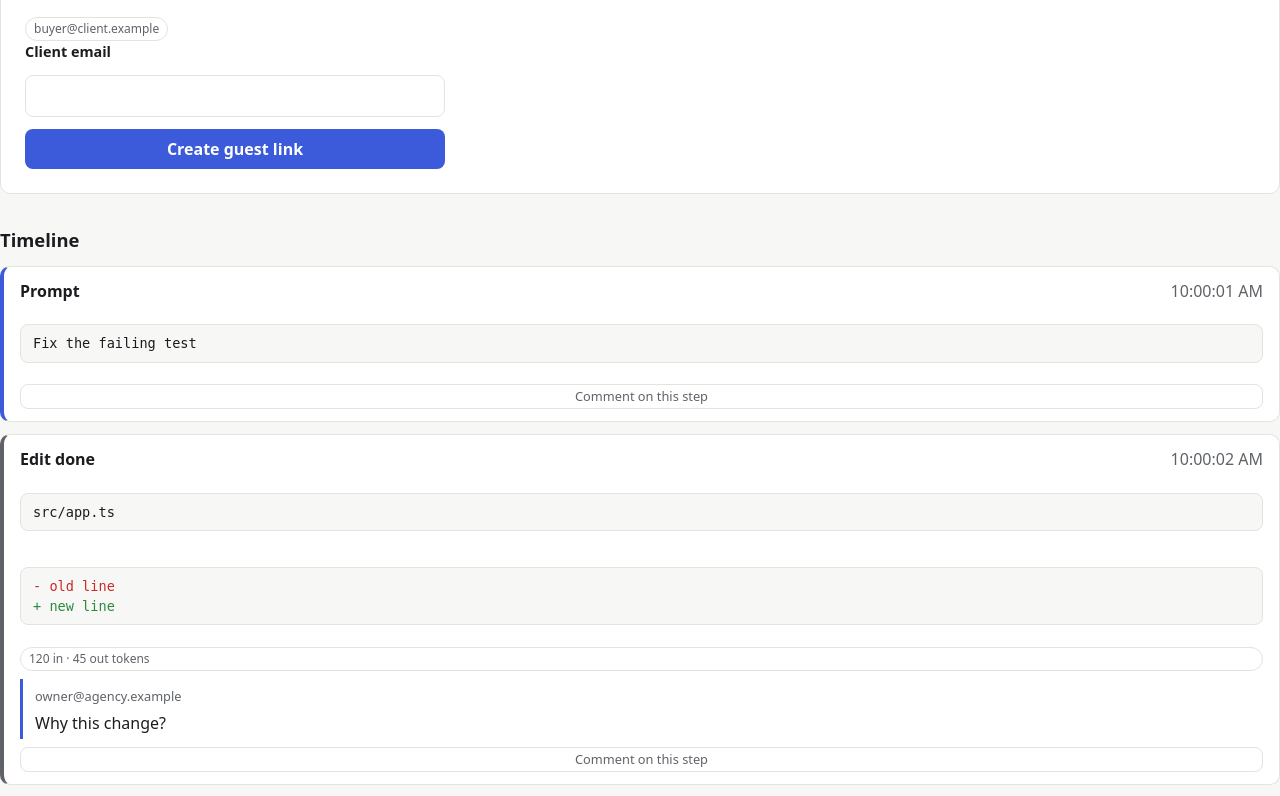
LiveRun › anchors the next comment to the chosen step
The width and height of the screenshot is (1280, 796).
(page scrolled)
Click the button "Comment on this step" below "Prompt" at (642, 397), box [20,384,1263,409]
(page scrolled)
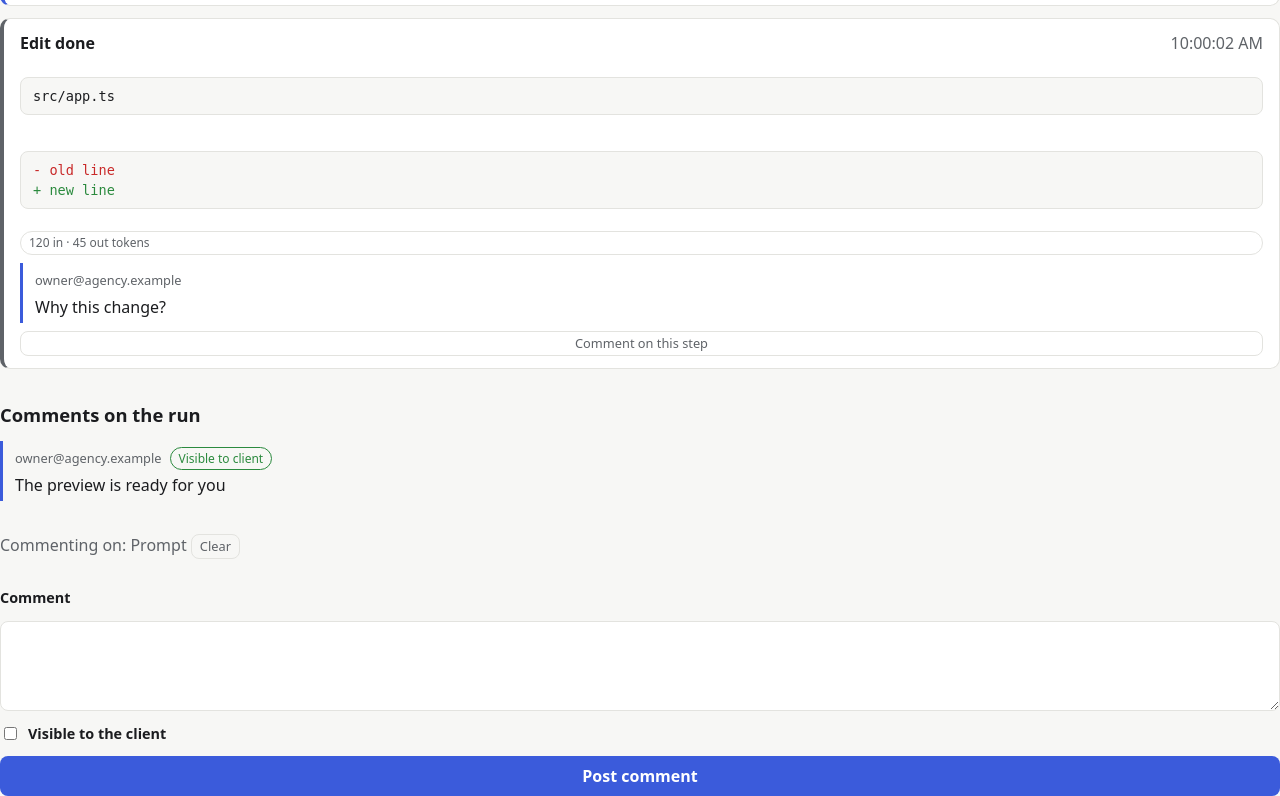
Expected: the text "Commenting on: Prompt" is shown, [0,534,240,559]
